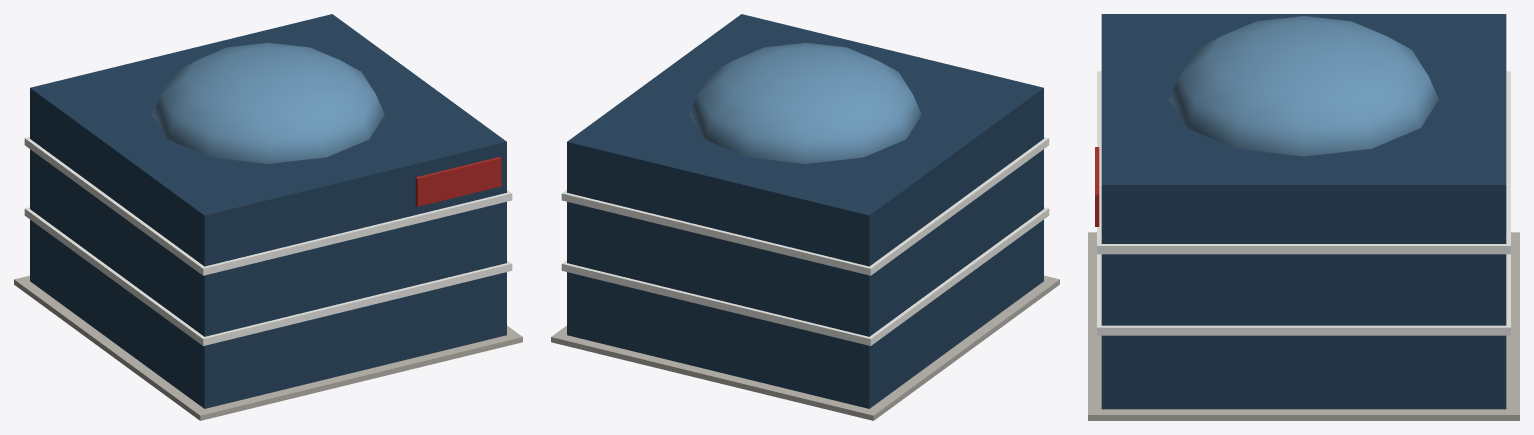
File: zone_C_d3_e4.glb
The picture shows the model from 3 angles, left to right: view 1: azimuth 30°, elevation 25°; view 2: azimuth 150°, elevation 25°; view 3: azimuth 270°, elevation 25°; orthographic projection. The views are drawn at different scales.
Parts seen in each view (by area): view 1: zone_C_d3_e4; view 2: zone_C_d3_e4; view 3: zone_C_d3_e4.
Part boxes in pixels (x1,y1,x2,y2): zone_C_d3_e4: (14,14,522,420); zone_C_d3_e4: (551,14,1059,420); zone_C_d3_e4: (1088,14,1519,420).
Size of the model in its own units: 0.96 by 0.715 by 0.96.
